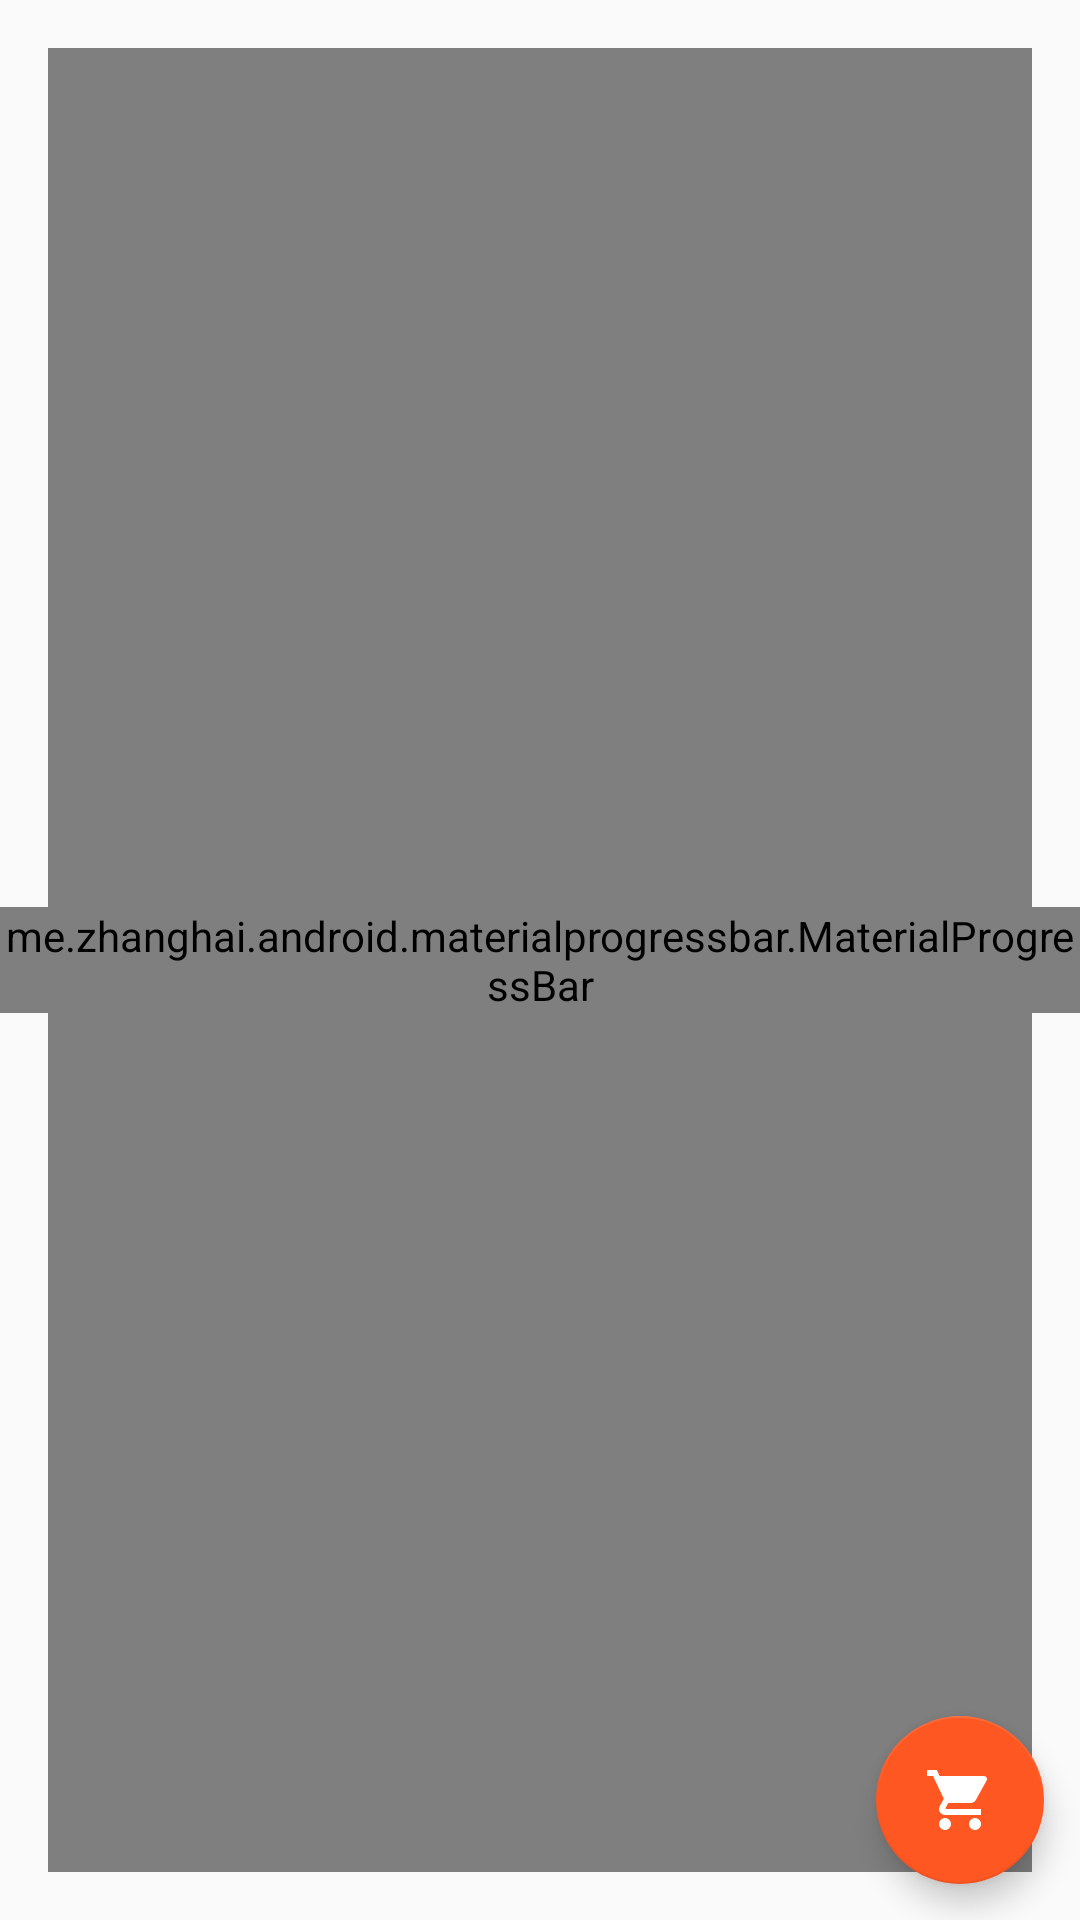

Named icons in this screenshot (1080 x 1920) and their centers, point (x, y):
shopping cart: point (960, 1800)
